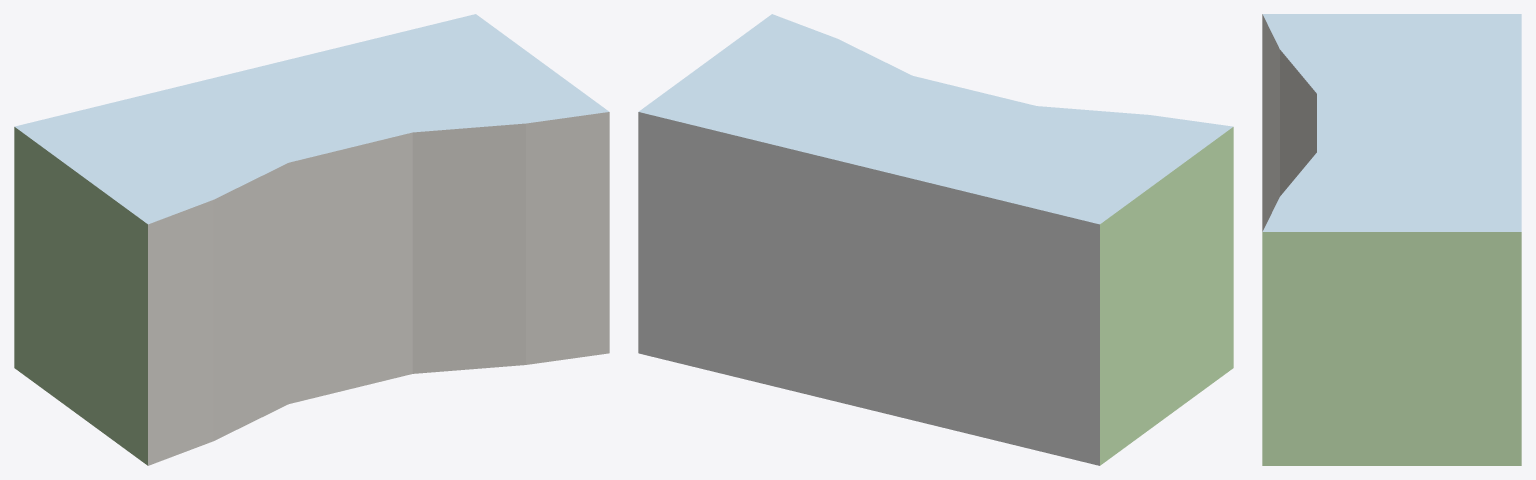
File: Wall_Straight_Deformed_Concave_2x2_Mid.glb
The picture shows the model from 3 angles, left to right: view 1: azimuth 30°, elevation 25°; view 2: azimuth 150°, elevation 25°; view 3: azimuth 270°, elevation 25°; orthographic projection. The views are drawn at different scales.
Visible parts, largest first — view 1: Wall_Straight_Deformed_Concave_2x2_Mid; view 2: Wall_Straight_Deformed_Concave_2x2_Mid; view 3: Wall_Straight_Deformed_Concave_2x2_Mid.
Boxes of the visible parts, x1,y1,x2,y2 form: Wall_Straight_Deformed_Concave_2x2_Mid: [14, 14, 609, 465]; Wall_Straight_Deformed_Concave_2x2_Mid: [638, 14, 1233, 465]; Wall_Straight_Deformed_Concave_2x2_Mid: [1262, 14, 1521, 465].
Size of the model in its own units: 200 by 100 by 100.
